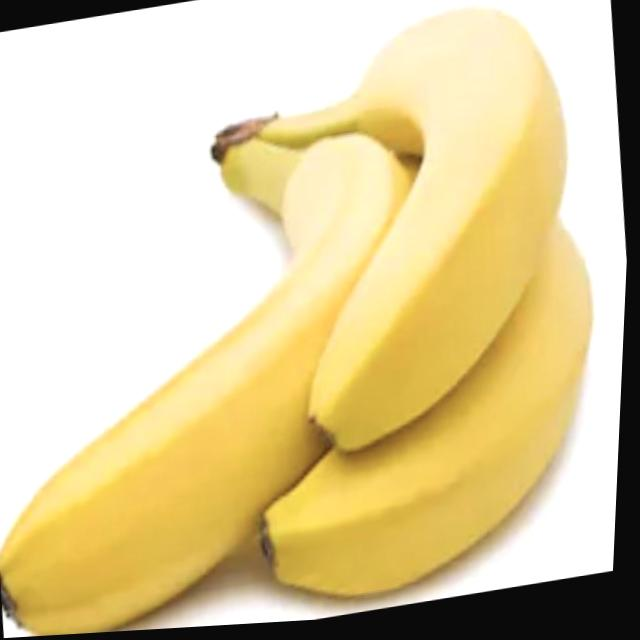Banana: (0, 0, 637, 640)
